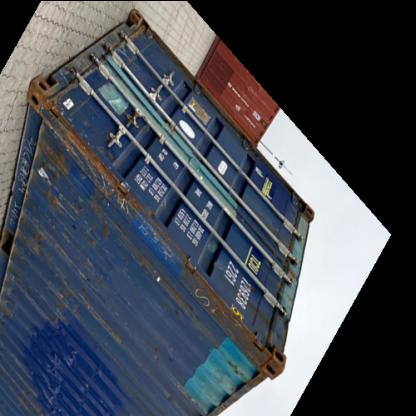Damage: (20, 339, 74, 414), (215, 343, 276, 384), (189, 279, 233, 325), (27, 218, 65, 270), (92, 178, 140, 210), (156, 378, 206, 404), (31, 152, 69, 184), (54, 290, 86, 323)
